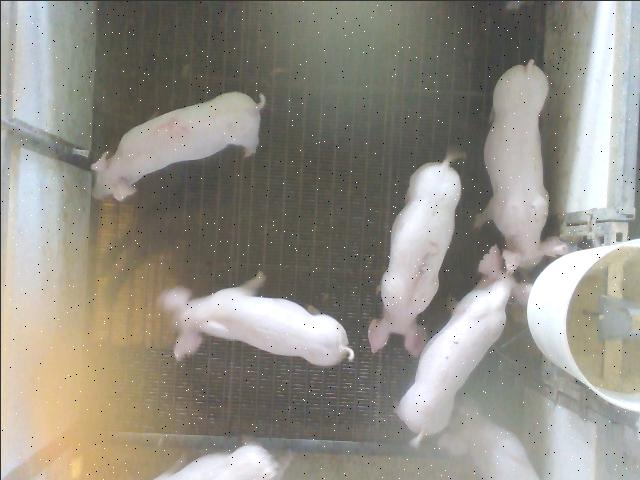pig-3: (368, 151, 460, 354)
pig-4: (90, 91, 264, 199)
